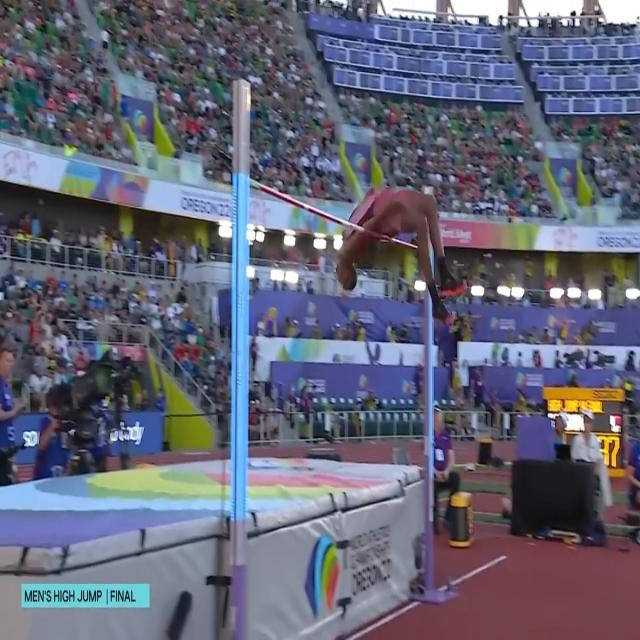jump: (334, 183, 469, 331)
